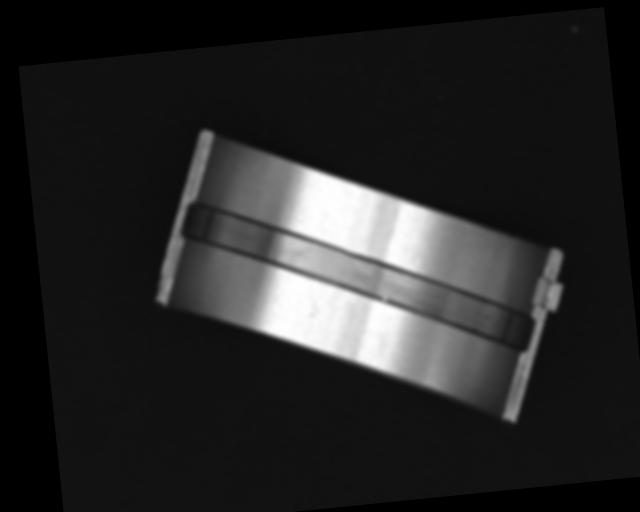gap: (177, 167, 537, 383)
